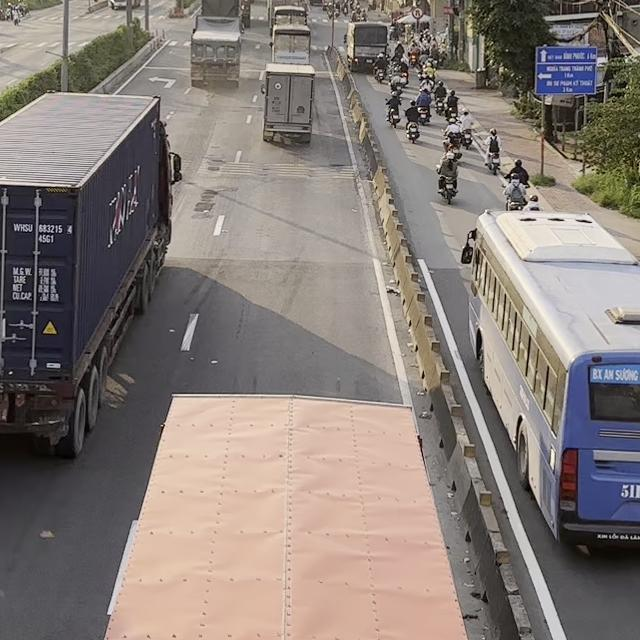bus: (461, 206, 639, 554)
motorcycle: (435, 164, 460, 204), (501, 183, 530, 211), (441, 128, 463, 160), (384, 97, 403, 128), (456, 117, 474, 149), (404, 109, 420, 143), (484, 150, 501, 175), (416, 105, 431, 125), (373, 64, 386, 83), (434, 96, 445, 115)
truck: (0, 89, 182, 458), (259, 62, 316, 145), (189, 13, 242, 88), (343, 20, 388, 72), (269, 23, 310, 64)
